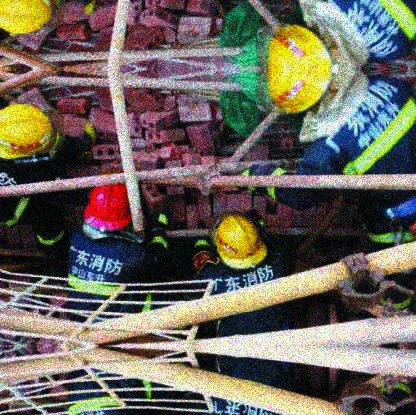helmet: (267, 17, 339, 72), (1, 104, 64, 166), (208, 211, 267, 276), (268, 72, 334, 120), (86, 178, 133, 238)
